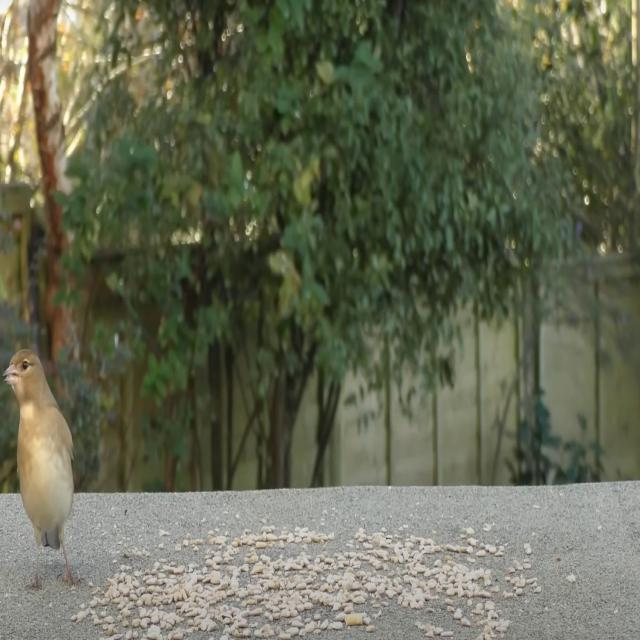beak: (2, 364, 20, 388)
bird: (0, 343, 79, 603)
